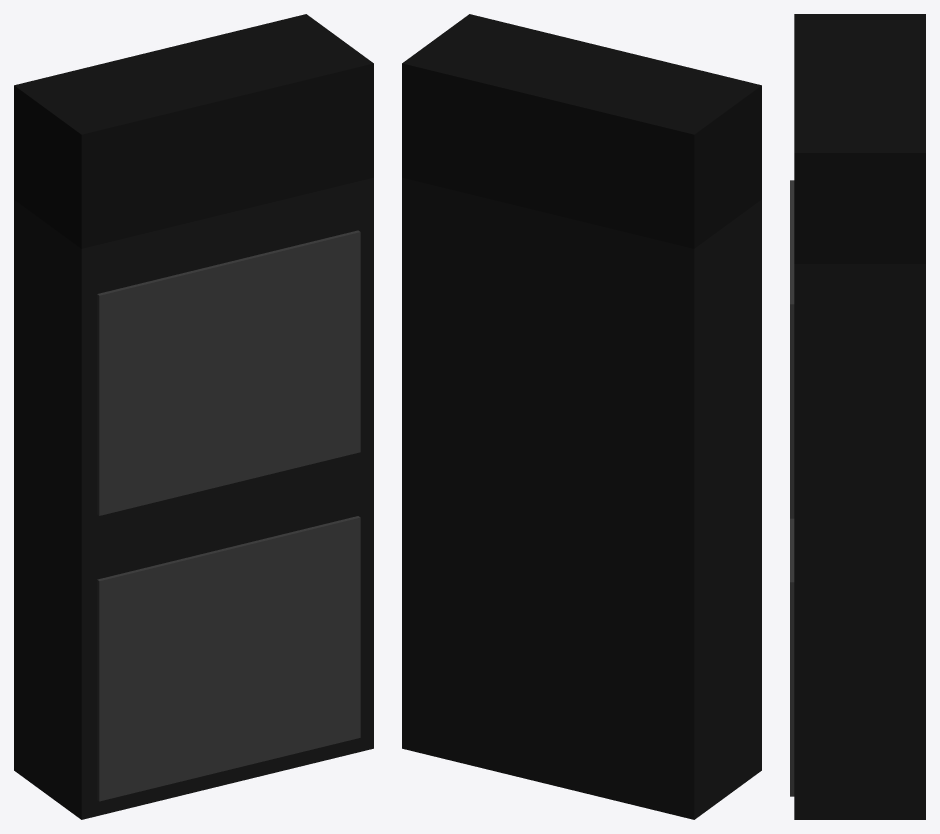
Rendered from lwf_stage_set_metal_v1.glb.
3 views of the same model, side by side, from view 1: azimuth 30°, elevation 25°; view 2: azimuth 150°, elevation 25°; view 3: azimuth 270°, elevation 25° (orthographic). The views are drawn at different scales.
Parts seen in each view (by area): view 1: Props; view 2: Props; view 3: Props.
Boxes of the visible parts, <box> form: Props: <box>14,14,373,819</box>; Props: <box>402,14,761,819</box>; Props: <box>790,14,925,819</box>.
Size of what is drawn, in the model's own units: 0.75 by 1.68 by 0.31.
Materials: 1 (1 with a texture image).
